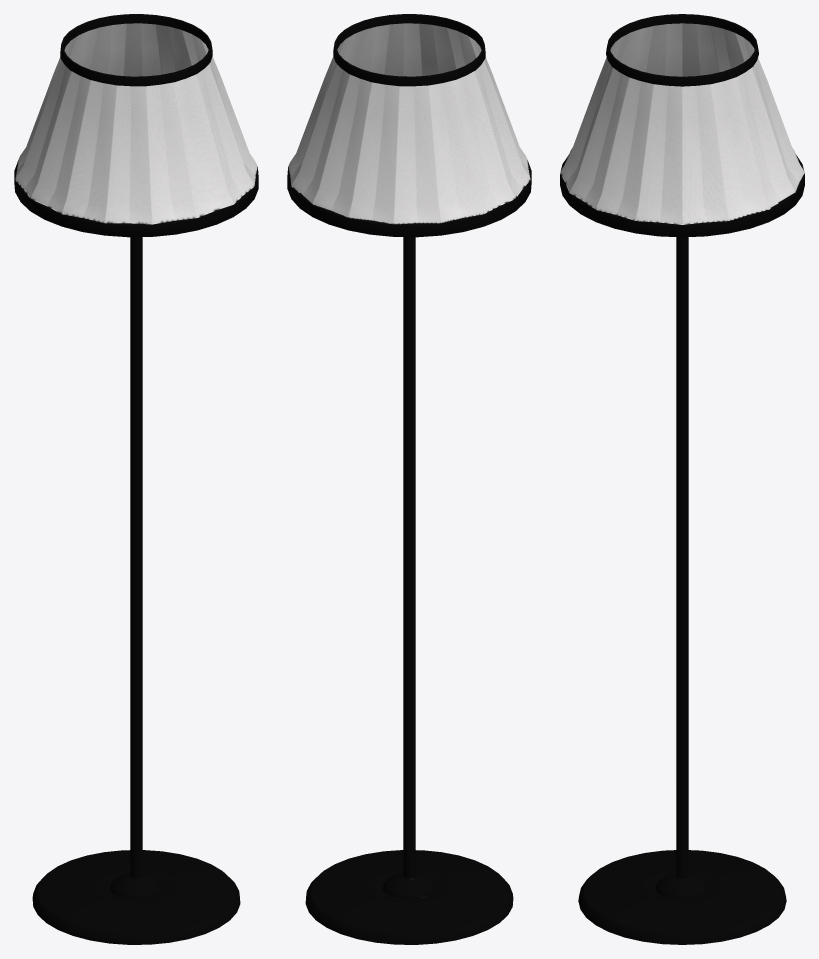
The model's file is Lampara-piso.fbx.
The picture shows the model from 3 angles, left to right: view 1: azimuth 30°, elevation 25°; view 2: azimuth 150°, elevation 25°; view 3: azimuth 270°, elevation 25°; orthographic projection.
Visible parts, largest first — view 1: Lamp; view 2: Lamp; view 3: Lamp.
Boxes of the visible parts, x1,y1,x2,y2 form: Lamp: (14, 14, 258, 944); Lamp: (287, 14, 531, 944); Lamp: (560, 14, 804, 944).
Bounding box in the file's own units: 44.11 × 170 × 44.11.
